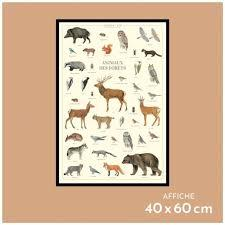Non_Gorille: (65, 26, 167, 174)
